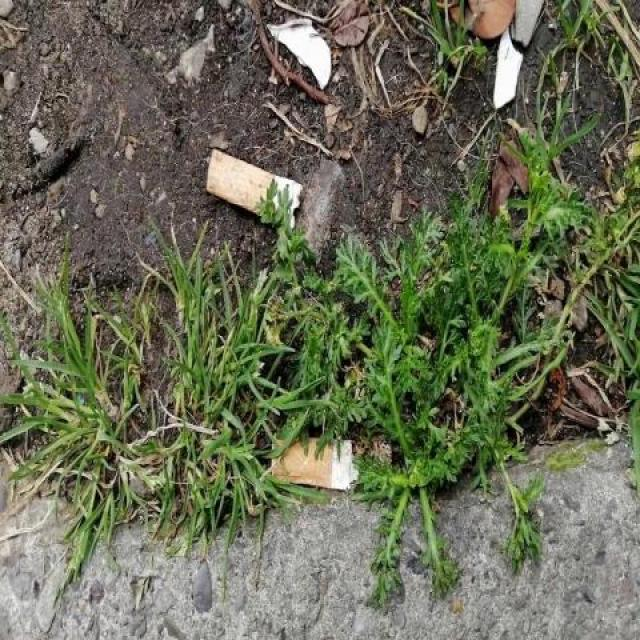non-organic waste: (204, 146, 304, 233), (268, 431, 364, 496)
